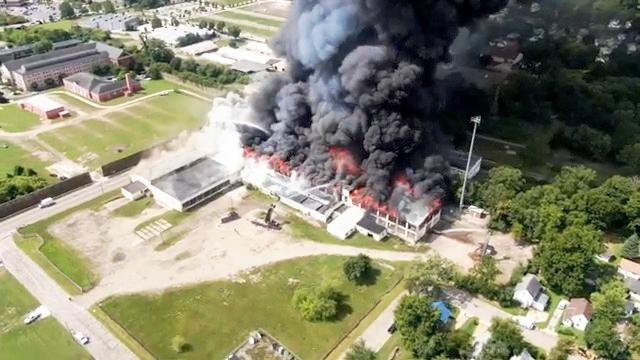smoke: (344, 45, 418, 182), (306, 0, 357, 174), (262, 89, 308, 162), (414, 151, 461, 191)
